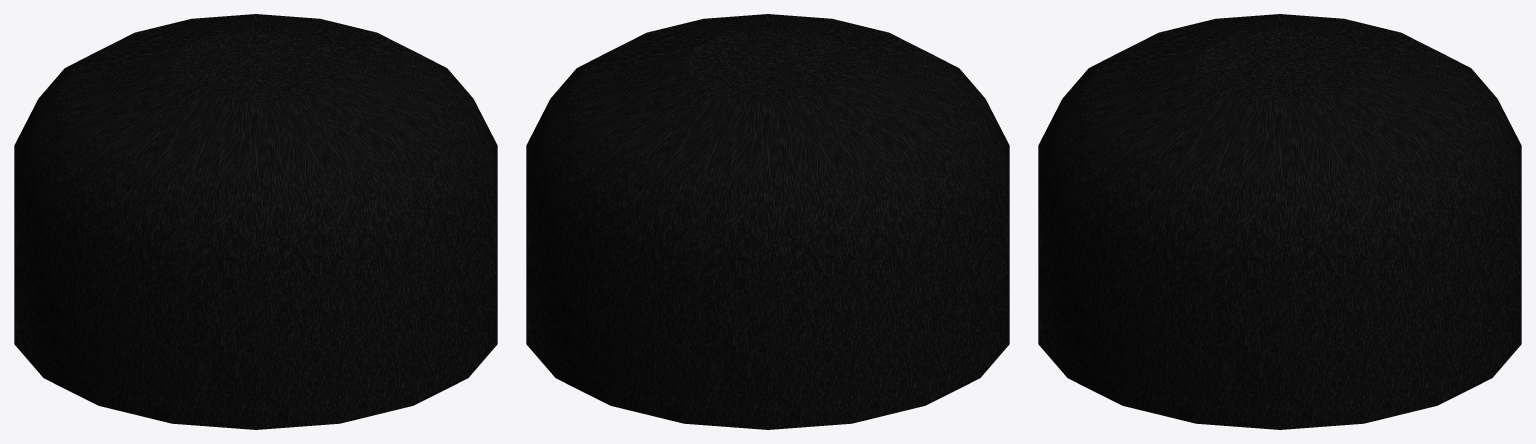
Rendered from carbonCylinder.obj.
3 views of the same model, side by side, from view 1: azimuth 30°, elevation 25°; view 2: azimuth 150°, elevation 25°; view 3: azimuth 270°, elevation 25° (orthographic).
Visible parts, largest first — view 1: carbonCylinder; view 2: carbonCylinder; view 3: carbonCylinder.
Boxes of the visible parts, x1,y1,x2,y2 form: carbonCylinder: [14, 14, 497, 429]; carbonCylinder: [526, 14, 1009, 429]; carbonCylinder: [1038, 14, 1521, 429].
Size of the model in its own units: 1.71 by 1 by 1.69.
Materials: 1 (1 with a texture image).
